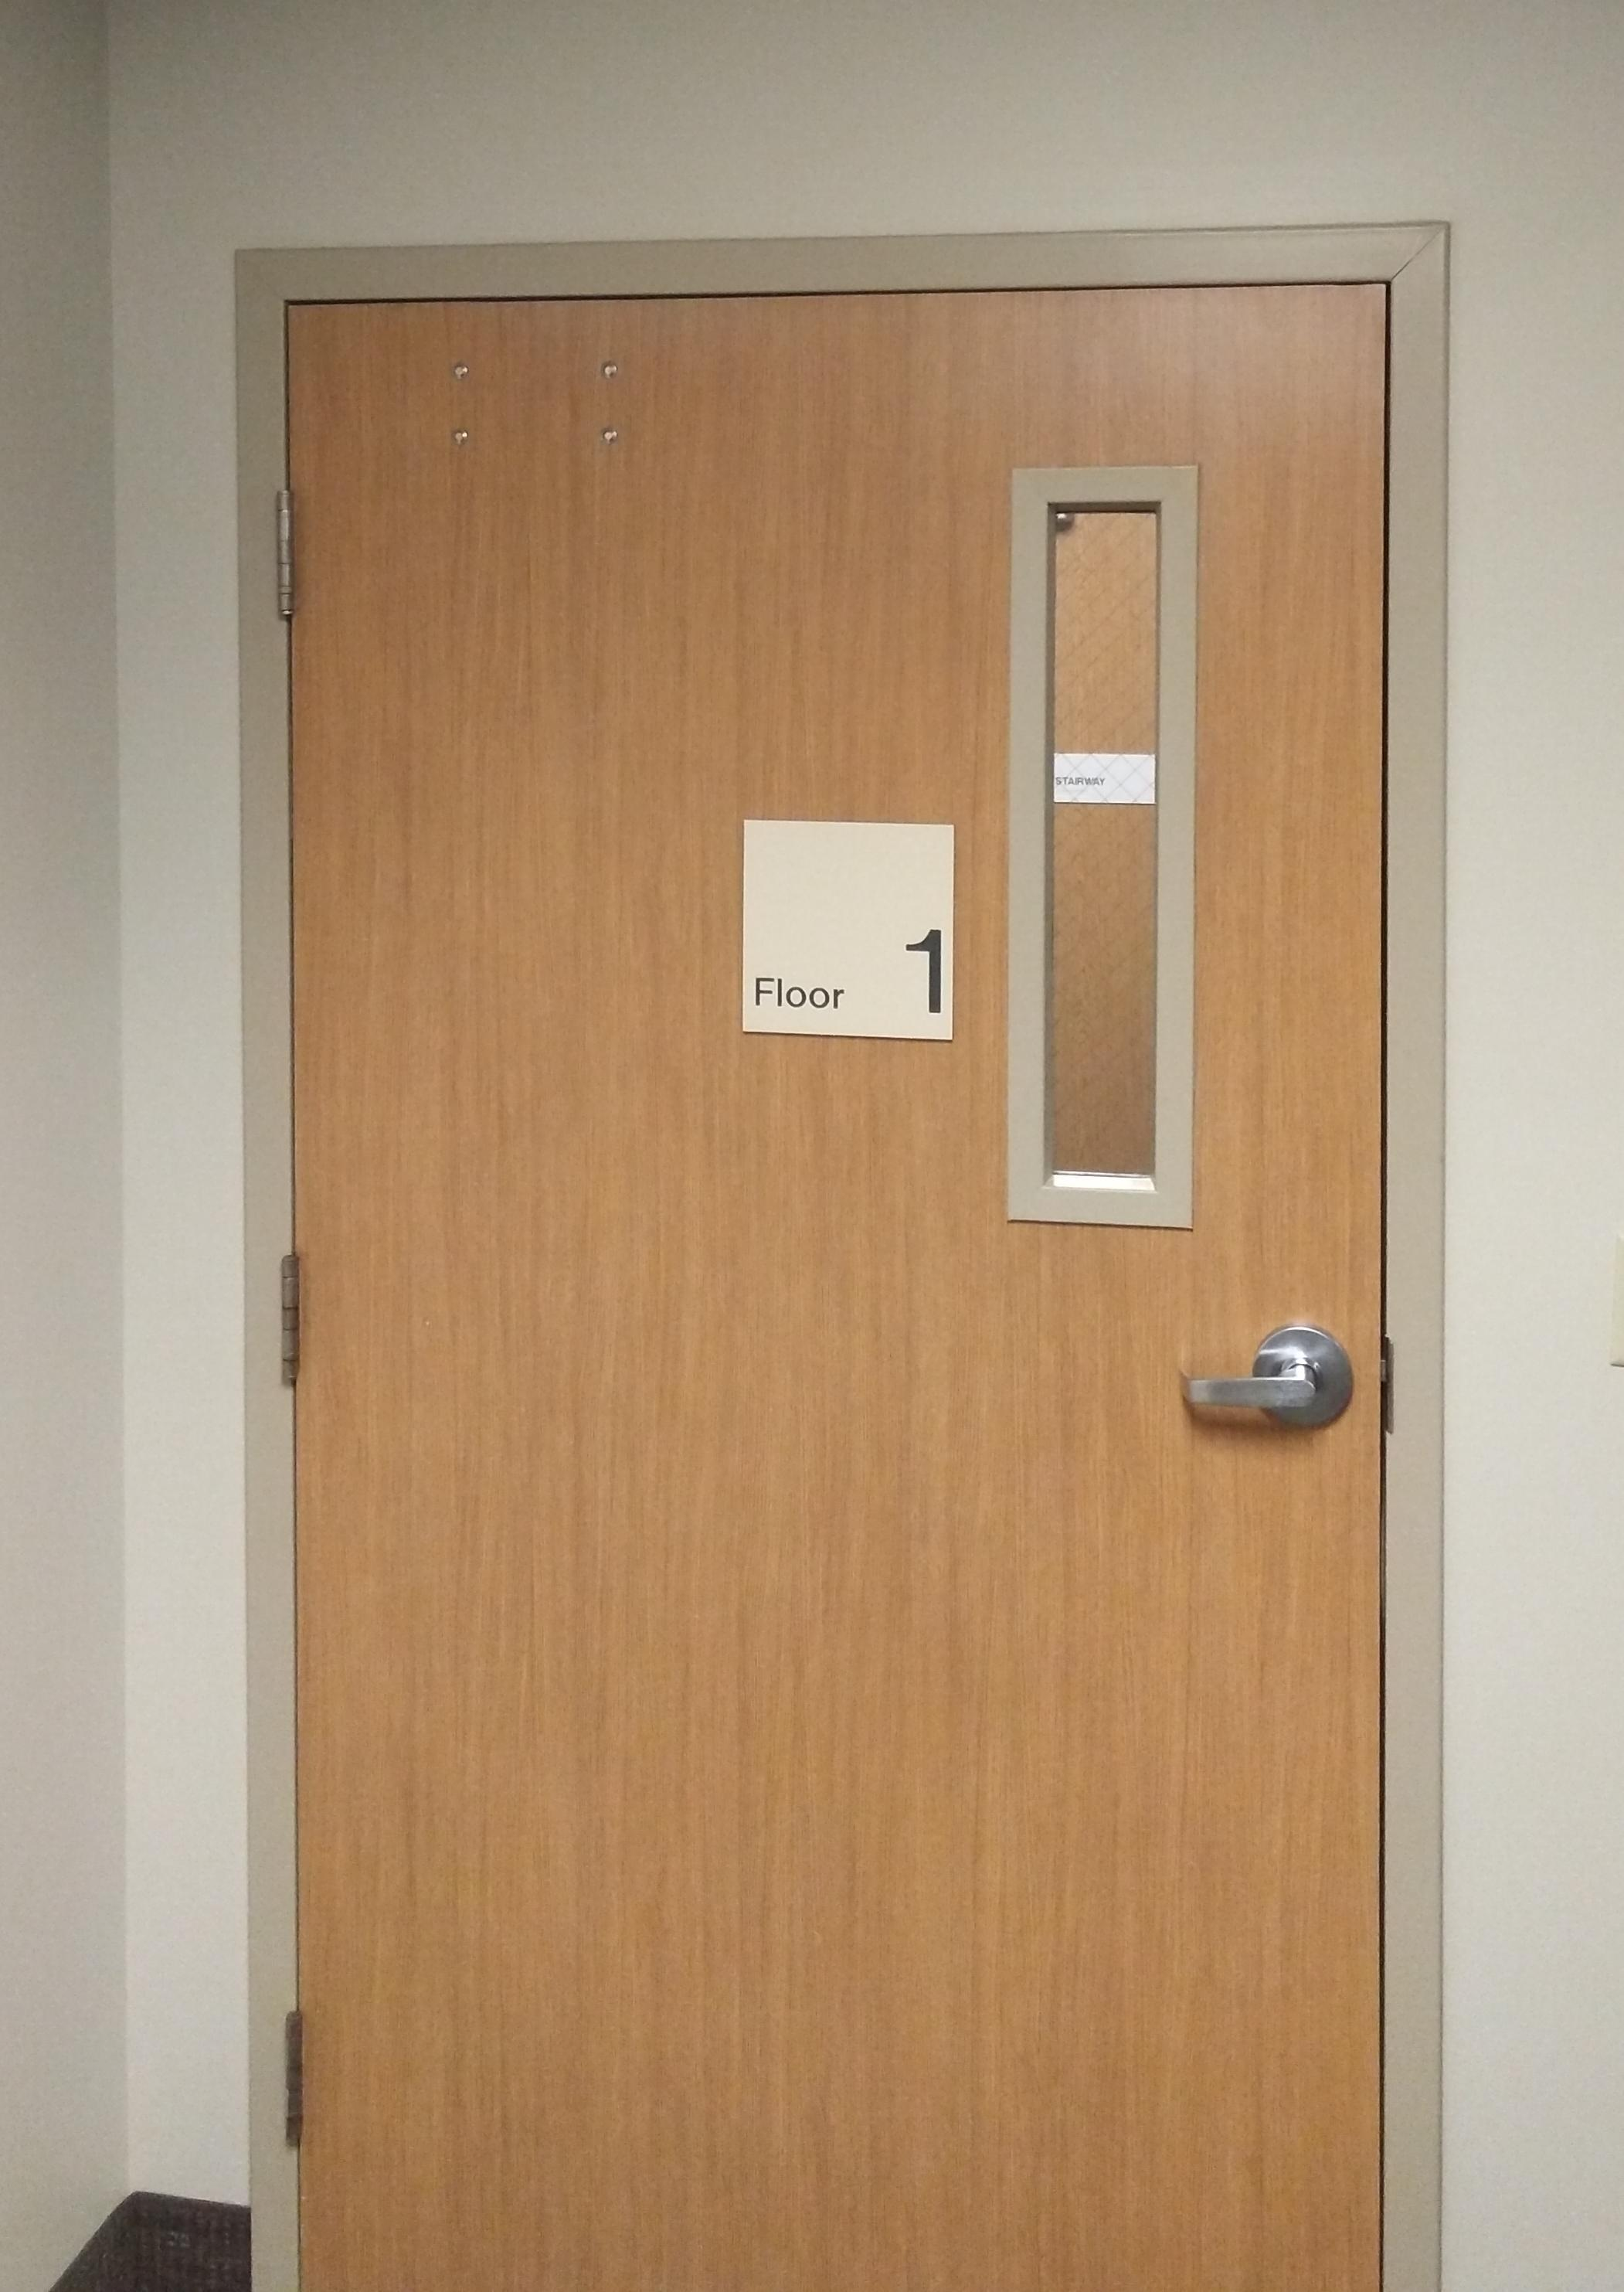door: (271, 281, 1401, 2292)
